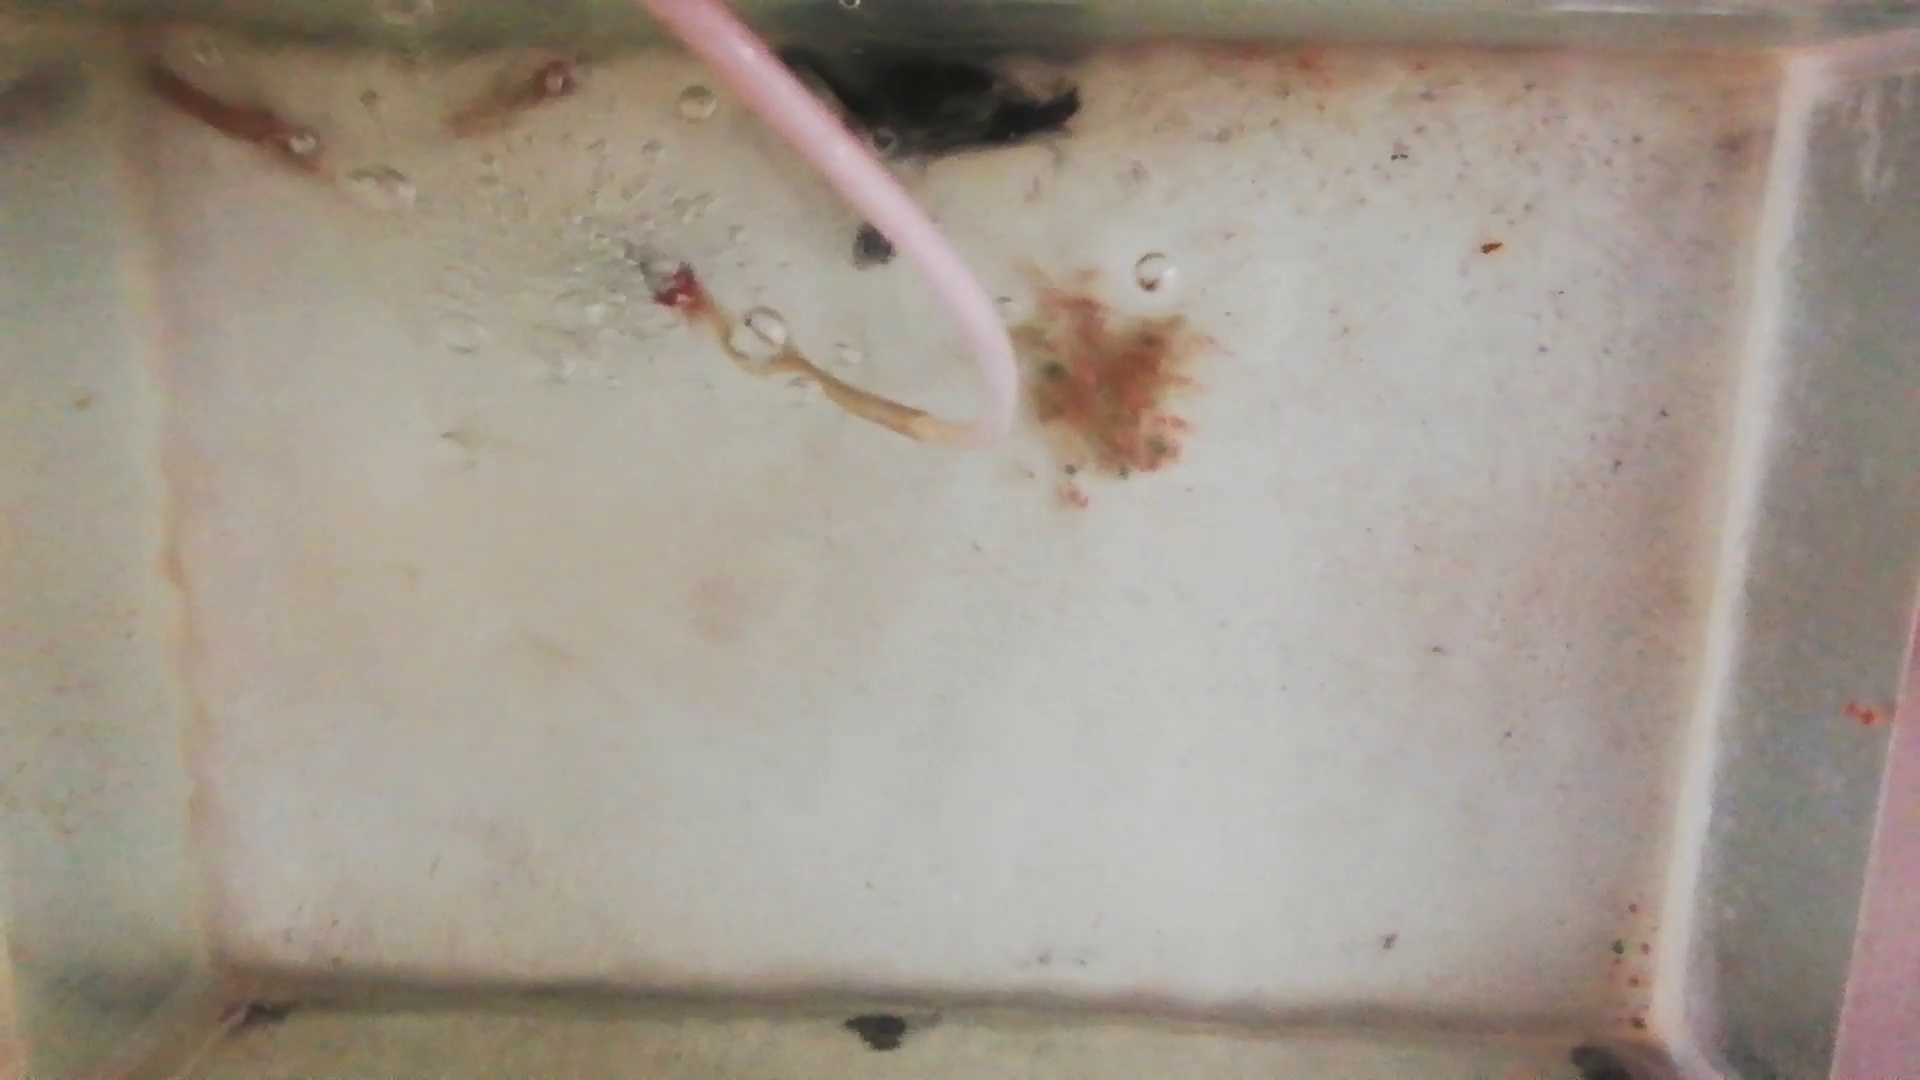fish: (133, 51, 334, 175), (444, 59, 583, 138)
